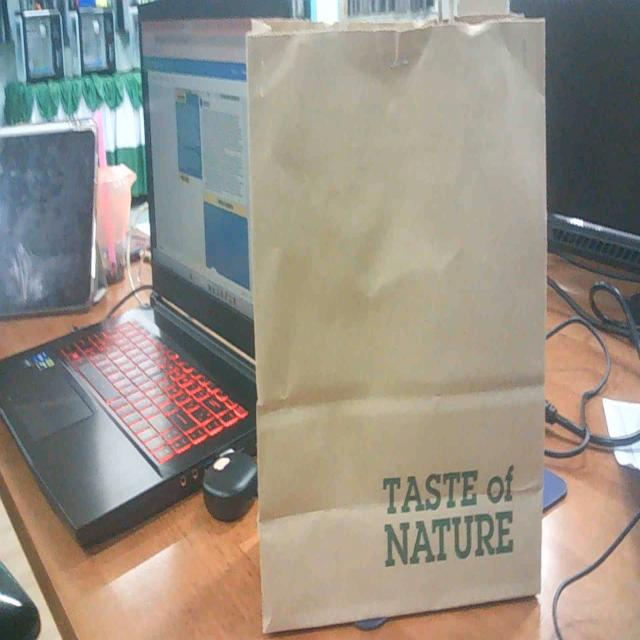bag: (224, 1, 562, 626)
